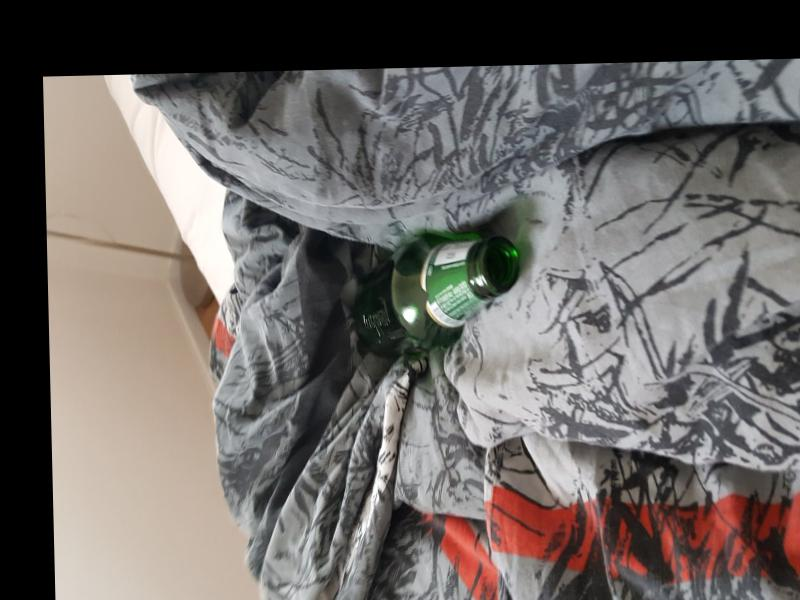Beer: (350, 230, 522, 357)
